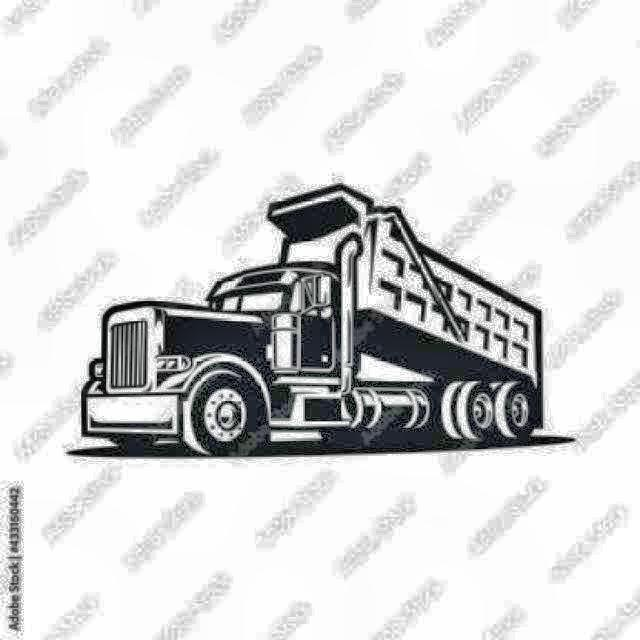dump_truck: (77, 179, 545, 456)
